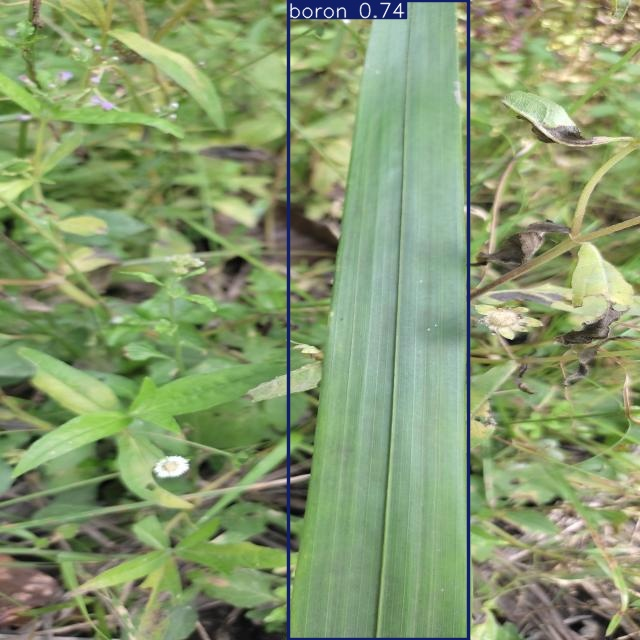nitrogen: (288, 0, 468, 640)
